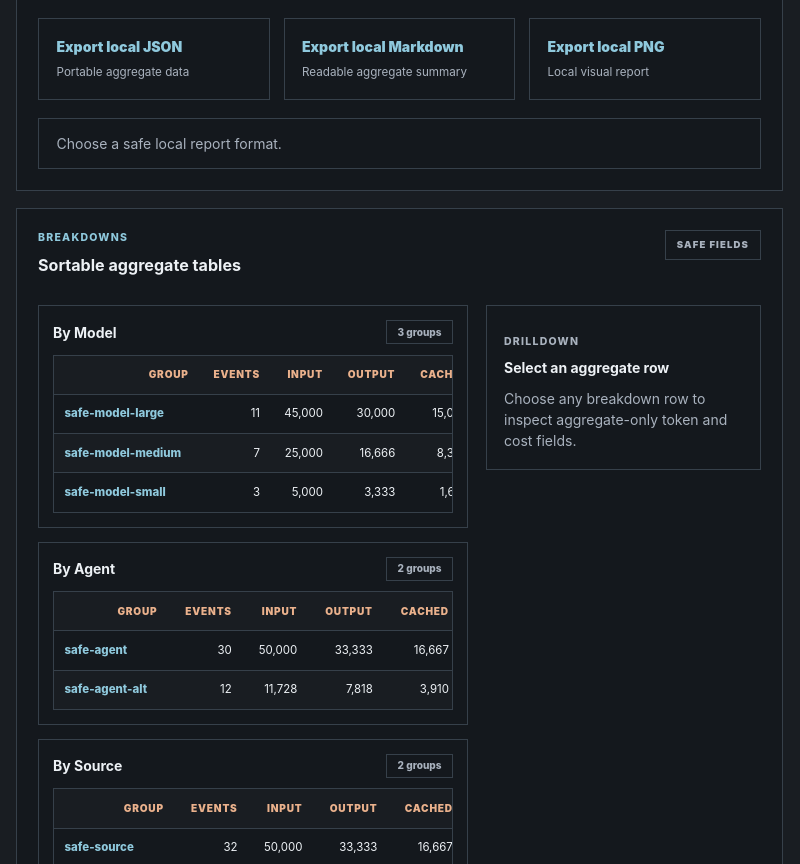
Scenario: desktop renderer shell › selects a total-token sorted model row and shows aggregate-only drilldown fields
(page scrolled)
Click the button with aria-label "Show details for safe-model-large in By Model" at (114, 414), box [64,405,164,423]
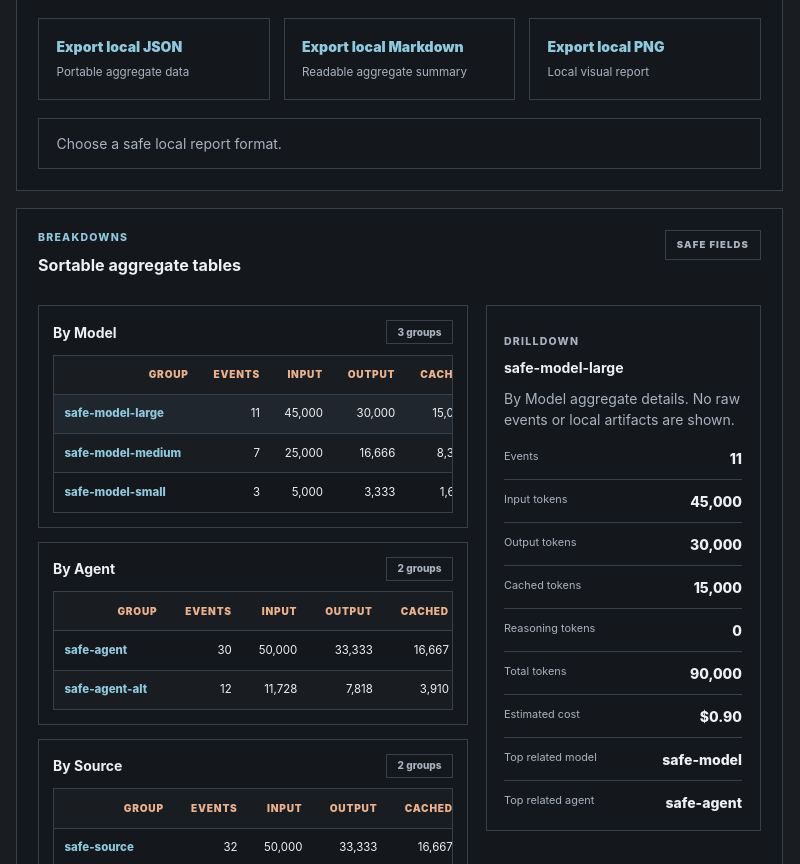
Now the element named "Breakdown drilldown panel" shows "safe-model-large", box [504,359,624,376]
